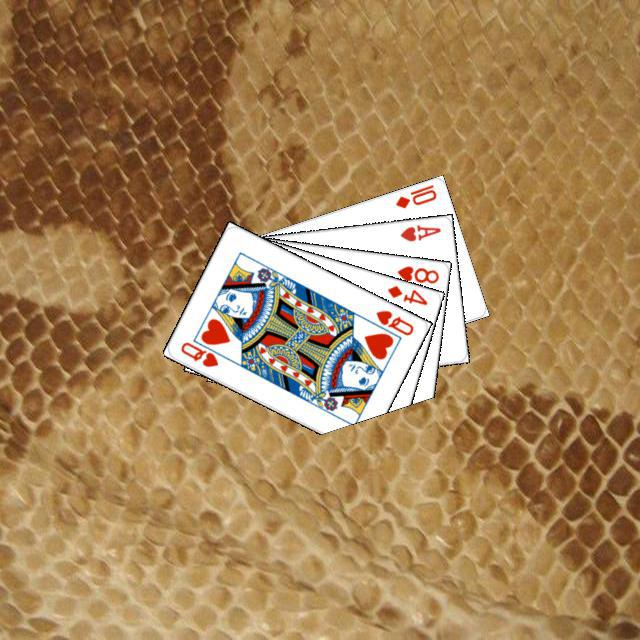10d: (390, 180, 438, 210)
4d: (382, 280, 429, 307)
8h: (392, 261, 441, 285)
Ah: (395, 220, 442, 243)
Qh: (176, 335, 229, 369), (371, 305, 415, 337)
